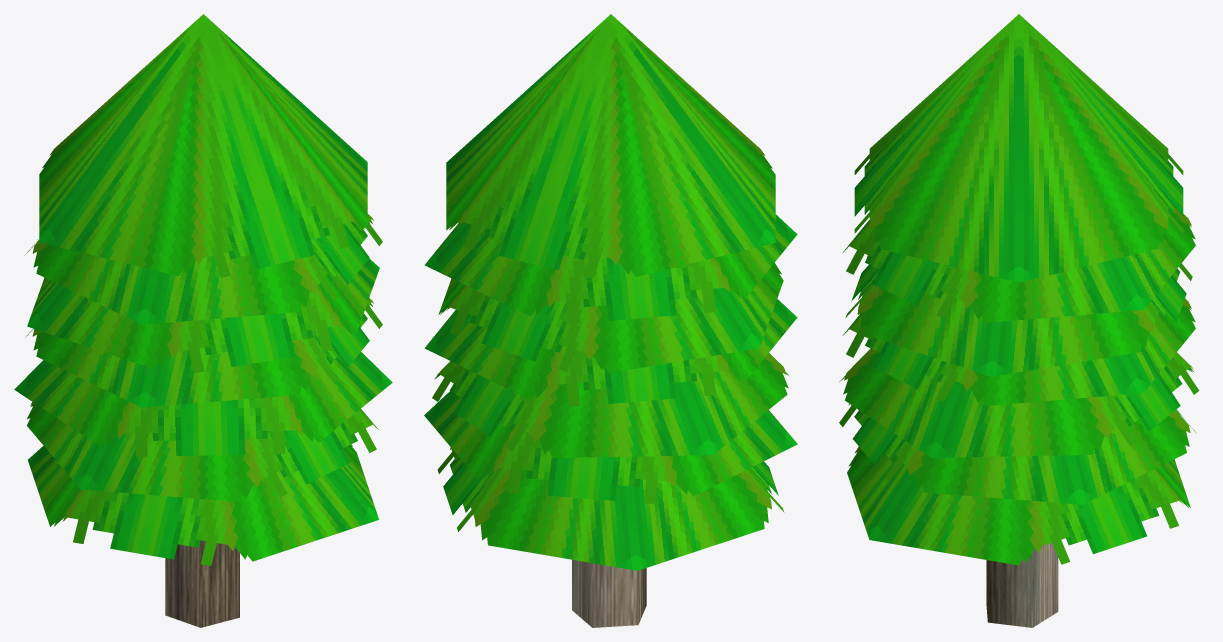
The model's file is tree1singleton2.fbx.
3 renders of one model, left to right at view 1: azimuth 30°, elevation 25°; view 2: azimuth 150°, elevation 25°; view 3: azimuth 270°, elevation 25°, orthographic.
Parts seen in each view (by area): view 1: tree; view 2: tree; view 3: tree.
Part boxes in pixels (bbox=[...]): tree: bbox=[14, 14, 392, 627]; tree: bbox=[424, 14, 797, 627]; tree: bbox=[839, 14, 1199, 627].
Bounding box in the file's own units: 23.96 × 41.67 × 23.94.
